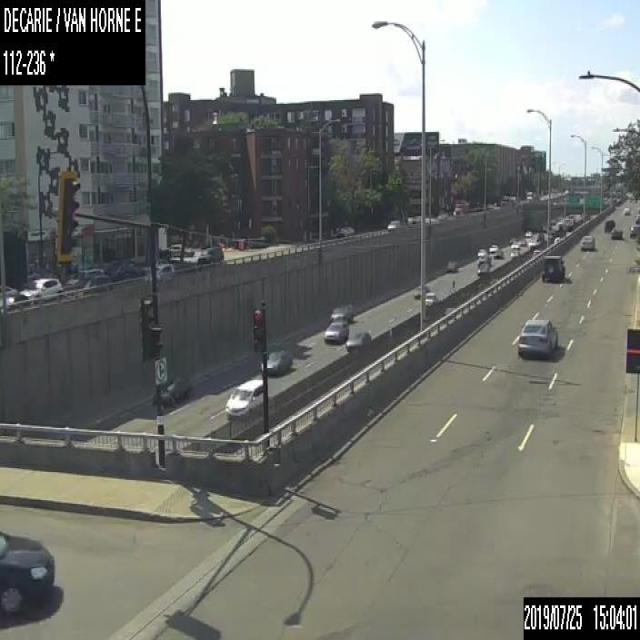vehicle: (0, 530, 53, 618), (224, 377, 262, 420), (517, 318, 557, 358), (152, 371, 191, 407), (64, 273, 112, 297), (17, 276, 61, 301), (62, 266, 102, 286), (260, 348, 290, 374), (106, 260, 140, 280), (542, 254, 564, 282), (345, 329, 372, 351), (140, 258, 172, 276), (323, 321, 348, 343), (329, 302, 354, 323), (194, 243, 223, 261), (158, 242, 194, 256), (0, 284, 17, 308), (528, 232, 544, 248), (412, 284, 428, 299), (580, 234, 594, 249), (336, 224, 354, 235), (603, 218, 615, 233), (452, 201, 465, 214), (424, 292, 436, 306), (476, 262, 489, 274), (477, 255, 491, 266), (610, 226, 622, 238), (447, 260, 458, 272), (386, 219, 400, 228), (509, 248, 520, 259), (630, 224, 639, 237), (476, 247, 486, 257), (493, 249, 502, 259), (507, 235, 516, 244), (488, 244, 498, 252), (510, 240, 519, 248), (526, 190, 532, 201), (531, 249, 540, 256), (623, 206, 629, 214), (518, 238, 524, 245), (524, 230, 531, 236), (635, 213, 639, 223), (554, 236, 559, 242)
